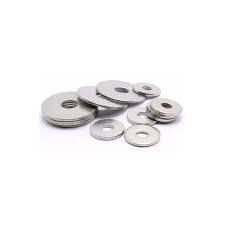No thread: (56, 94, 81, 115), (133, 127, 153, 141), (99, 119, 114, 133), (113, 87, 131, 98), (158, 103, 176, 110), (140, 84, 152, 93)
